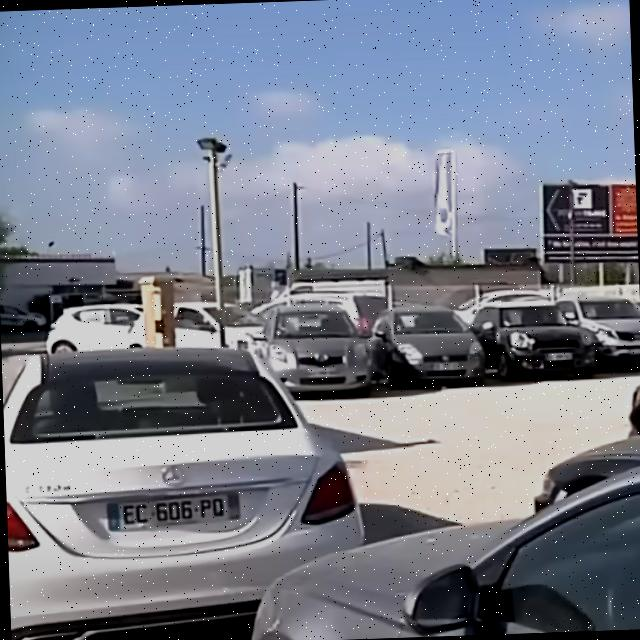Autre: (546, 348, 578, 361), (434, 360, 468, 371)
EU: (103, 493, 239, 534)
France: (105, 502, 122, 533)
